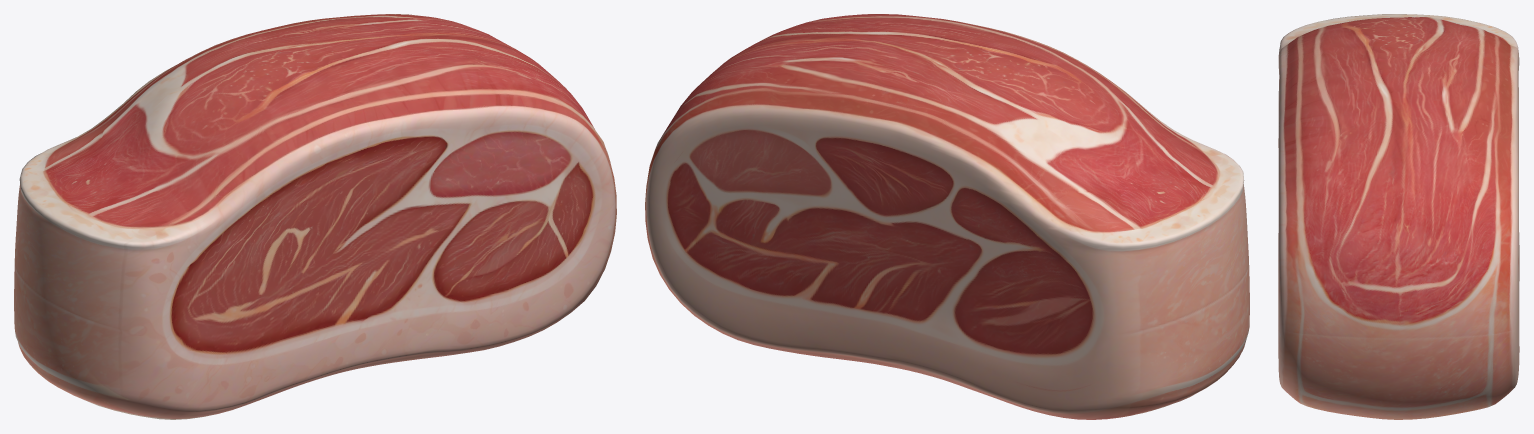
Rendered from Meat_0916174832_texture.fbx.
The picture shows the model from 3 angles, left to right: view 1: azimuth 30°, elevation 25°; view 2: azimuth 150°, elevation 25°; view 3: azimuth 270°, elevation 25°; orthographic projection. The views are drawn at different scales.
Parts seen in each view (by area): view 1: input; view 2: input; view 3: input.
Boxes of the visible parts, left/top/right/bottom form: input: left=14, top=14, right=616, bottom=419; input: left=645, top=14, right=1249, bottom=419; input: left=1278, top=14, right=1519, bottom=419.
Bounding box in the file's own units: 200 × 107 × 80.86.
Materials: 1 (1 with a texture image).
